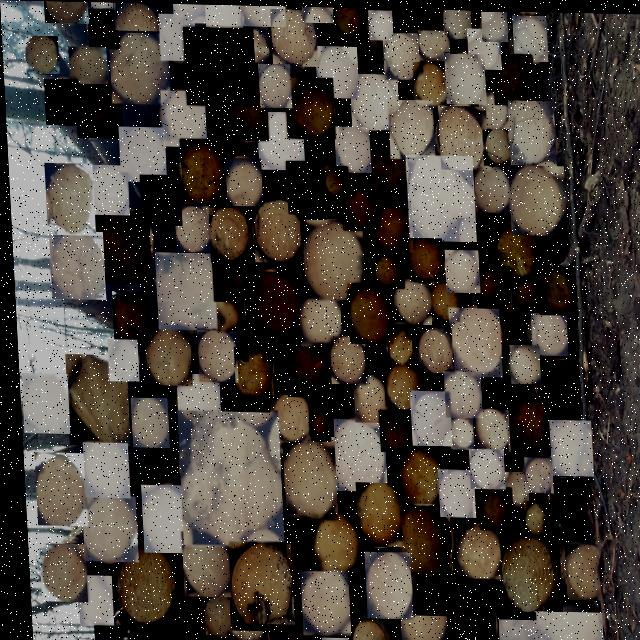wood-log: (173, 410, 279, 548), (404, 153, 475, 240), (61, 354, 126, 446), (183, 26, 256, 105), (152, 252, 222, 330), (223, 542, 288, 624), (300, 218, 363, 299), (495, 531, 558, 610), (111, 546, 172, 626), (241, 270, 300, 346), (108, 32, 170, 104), (278, 440, 333, 519), (94, 210, 151, 284), (506, 163, 565, 234), (326, 418, 383, 491), (46, 231, 103, 300), (29, 452, 82, 526), (392, 503, 447, 574), (136, 484, 192, 553), (445, 305, 499, 376), (76, 495, 133, 562), (43, 163, 94, 235), (437, 104, 490, 169), (176, 531, 227, 597), (358, 550, 407, 618), (294, 570, 345, 635), (179, 138, 229, 204), (507, 98, 555, 164), (250, 198, 299, 262), (351, 481, 399, 546), (284, 76, 334, 138), (306, 513, 355, 576), (439, 581, 490, 640), (17, 373, 66, 434), (141, 324, 189, 385), (502, 391, 549, 453), (74, 80, 123, 139), (255, 110, 304, 169), (349, 72, 399, 129), (33, 543, 81, 602), (387, 98, 434, 158), (344, 282, 390, 343), (220, 82, 268, 140), (117, 126, 165, 182), (361, 139, 408, 196), (270, 8, 317, 65), (532, 357, 578, 415), (389, 444, 435, 502), (159, 90, 206, 146), (78, 442, 125, 498), (450, 523, 496, 580), (491, 221, 537, 276), (282, 341, 328, 396), (545, 418, 589, 474), (172, 373, 217, 427), (406, 389, 448, 445), (315, 44, 359, 97), (295, 293, 339, 346), (284, 160, 327, 214), (206, 206, 247, 262), (368, 198, 411, 251), (193, 327, 234, 382), (85, 164, 128, 215), (492, 52, 534, 103), (138, 174, 180, 225), (529, 609, 597, 640), (444, 52, 486, 102), (266, 394, 307, 445), (559, 541, 595, 598), (230, 346, 270, 397), (126, 397, 165, 448), (534, 264, 574, 313), (382, 31, 423, 78), (109, 291, 147, 341), (339, 181, 378, 229), (325, 334, 363, 383), (433, 467, 471, 516), (71, 575, 107, 626), (390, 277, 429, 324), (440, 369, 479, 416), (223, 157, 261, 205), (349, 373, 386, 422), (413, 60, 451, 107), (472, 164, 510, 211), (414, 325, 452, 372), (544, 475, 582, 522), (158, 13, 196, 60), (379, 361, 418, 406), (527, 308, 565, 354), (333, 125, 370, 171), (512, 13, 548, 59), (173, 205, 209, 251), (44, 79, 80, 125), (472, 263, 508, 307), (405, 236, 441, 280), (442, 248, 478, 291), (470, 407, 506, 450), (198, 593, 233, 637), (473, 485, 508, 528), (257, 63, 291, 107), (68, 46, 107, 84), (464, 447, 501, 487), (467, 26, 501, 68), (374, 408, 407, 451), (455, 216, 490, 256), (24, 36, 59, 76), (210, 261, 244, 301), (104, 339, 136, 381), (114, 2, 160, 31), (166, 589, 198, 630), (394, 613, 442, 640), (87, 8, 119, 48), (426, 279, 457, 320), (205, 4, 243, 37), (385, 7, 443, 28), (506, 343, 537, 382), (236, 26, 269, 62), (477, 90, 509, 127), (262, 616, 311, 640), (518, 499, 549, 535), (508, 275, 539, 310), (372, 251, 402, 287), (519, 455, 549, 491), (483, 127, 511, 164), (44, 1, 89, 24), (418, 29, 450, 61), (240, 4, 286, 26), (383, 328, 410, 363), (344, 617, 384, 640), (492, 617, 532, 640), (498, 469, 524, 504), (333, 6, 363, 36), (304, 399, 329, 435), (442, 8, 472, 37), (444, 415, 470, 448), (481, 9, 508, 40), (368, 8, 393, 39), (323, 164, 348, 195), (213, 300, 237, 331), (173, 3, 206, 23), (302, 5, 334, 22), (87, 625, 123, 640), (222, 629, 257, 640), (179, 634, 210, 640), (91, 2, 113, 8), (315, 636, 342, 640)
